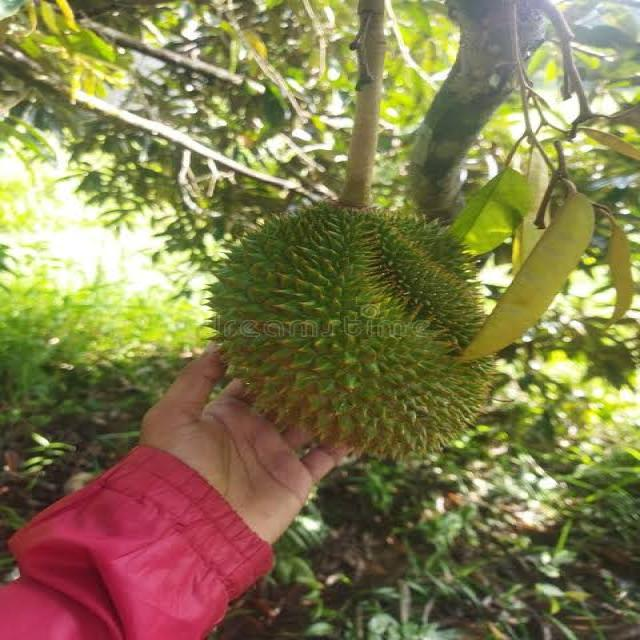immature: (210, 196, 501, 463)
